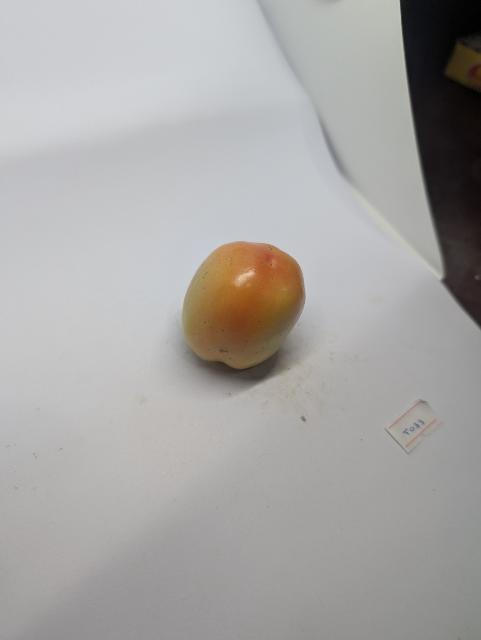turning: (173, 233, 315, 372)
